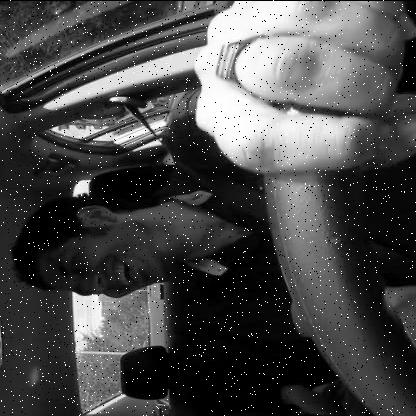seatbelt: (4, 90, 416, 308)
